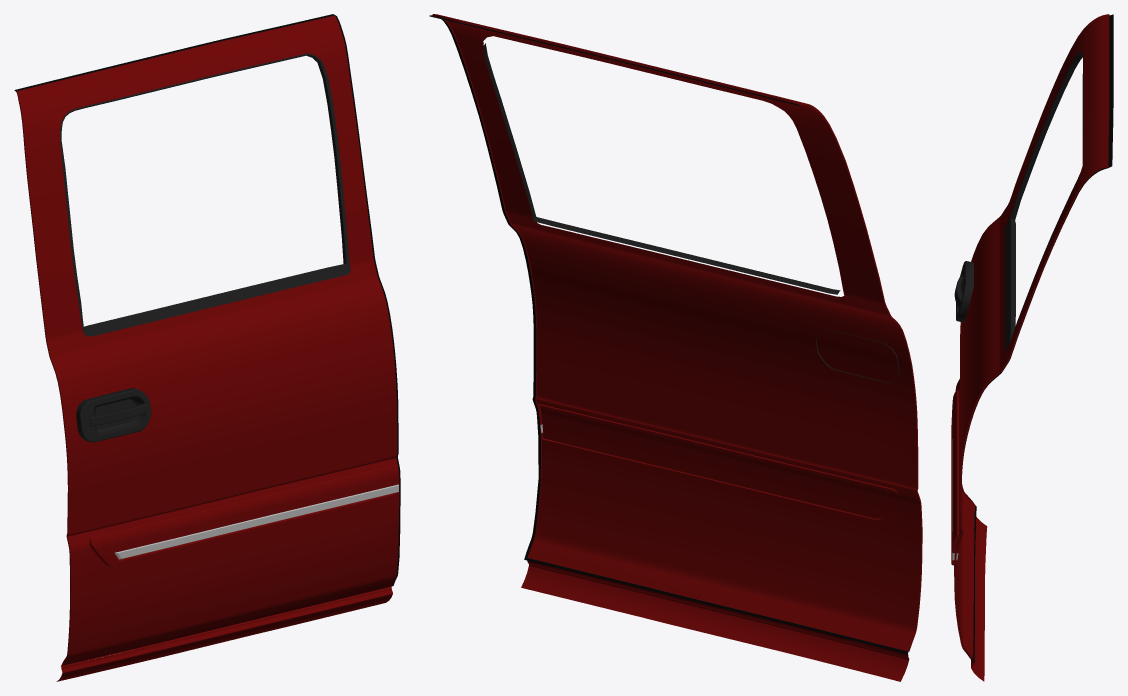
The picture shows the model from 3 angles, left to right: view 1: azimuth 30°, elevation 25°; view 2: azimuth 150°, elevation 25°; view 3: azimuth 270°, elevation 25°; orthographic projection. The views are drawn at different scales.
Visible parts, largest first — view 1: U805_4A_321B_R_4_DaS_U805_4A_321B_R, U805_4A_321B_R_U805_4A_321B_R_2_DaS, U805_4A_321B_R_U805_4A_321B_R_5_D, U805_4A_321B_R_U805_4A_321B_R_1_D, U805_4A_321B_R_U805_4A_321B_R_3_DaS, U805_4A_321B_R_U805_4A_321B_R_6_D, U805_4A_321B_R_U805_4A_321B_R_2_DaS_E, U805_4A_321B_R_4_DaS_U805_4A_321B_R_E; view 2: U805_4A_321B_R_4_DaS_U805_4A_321B_R, U805_4A_321B_R_4_DaS_U805_4A_321B_R_E, U805_4A_321B_R_U805_4A_321B_R_5_D, U805_4A_321B_R_U805_4A_321B_R_6_D, U805_4A_321B_R_U805_4A_321B_R_2_DaS_E; view 3: U805_4A_321B_R_4_DaS_U805_4A_321B_R, U805_4A_321B_R_U805_4A_321B_R_5_D, U805_4A_321B_R_4_DaS_U805_4A_321B_R_E, U805_4A_321B_R_U805_4A_321B_R_6_D, U805_4A_321B_R_U805_4A_321B_R_2_DaS, U805_4A_321B_R_U805_4A_321B_R_1_D, U805_4A_321B_R_U805_4A_321B_R_2_DaS_E.
Boxes of the visible parts, left/top/right/bottom form: U805_4A_321B_R_4_DaS_U805_4A_321B_R: left=17, top=15, right=399, bottom=681; U805_4A_321B_R_U805_4A_321B_R_2_DaS: left=90, top=464, right=399, bottom=566; U805_4A_321B_R_U805_4A_321B_R_5_D: left=60, top=53, right=388, bottom=665; U805_4A_321B_R_U805_4A_321B_R_1_D: left=76, top=388, right=151, bottom=442; U805_4A_321B_R_U805_4A_321B_R_3_DaS: left=114, top=484, right=398, bottom=559; U805_4A_321B_R_U805_4A_321B_R_6_D: left=14, top=14, right=400, bottom=586; U805_4A_321B_R_U805_4A_321B_R_2_DaS_E: left=89, top=463, right=398, bottom=565; U805_4A_321B_R_4_DaS_U805_4A_321B_R_E: left=16, top=92, right=396, bottom=665; U805_4A_321B_R_4_DaS_U805_4A_321B_R: left=433, top=14, right=921, bottom=681; U805_4A_321B_R_4_DaS_U805_4A_321B_R_E: left=432, top=14, right=922, bottom=651; U805_4A_321B_R_U805_4A_321B_R_5_D: left=483, top=43, right=908, bottom=654; U805_4A_321B_R_U805_4A_321B_R_6_D: left=429, top=15, right=799, bottom=560; U805_4A_321B_R_U805_4A_321B_R_2_DaS_E: left=538, top=404, right=898, bottom=519; U805_4A_321B_R_4_DaS_U805_4A_321B_R: left=955, top=14, right=1108, bottom=681; U805_4A_321B_R_U805_4A_321B_R_5_D: left=973, top=51, right=1083, bottom=661; U805_4A_321B_R_4_DaS_U805_4A_321B_R_E: left=954, top=14, right=1109, bottom=661; U805_4A_321B_R_U805_4A_321B_R_6_D: left=955, top=14, right=1113, bottom=662; U805_4A_321B_R_U805_4A_321B_R_2_DaS: left=951, top=390, right=957, bottom=563; U805_4A_321B_R_U805_4A_321B_R_1_D: left=954, top=261, right=973, bottom=322; U805_4A_321B_R_U805_4A_321B_R_2_DaS_E: left=951, top=389, right=960, bottom=565.
Bounding box in the file's own units: 87.13 × 130 × 36.49.
